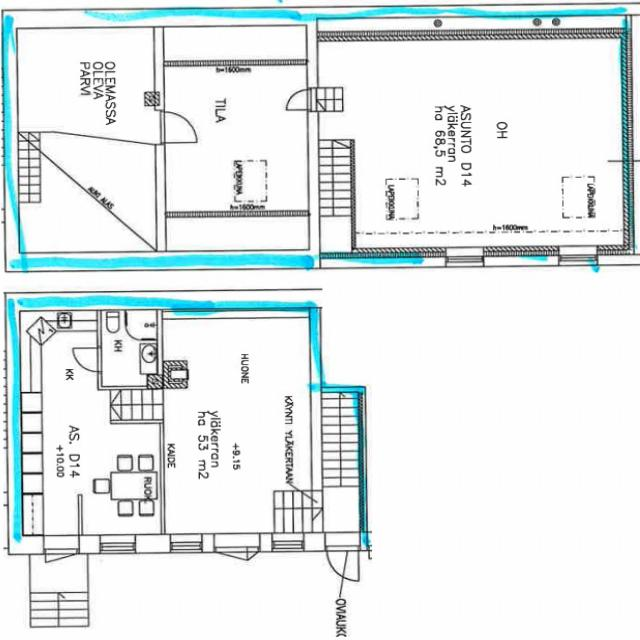door: (326, 535, 358, 584), (45, 535, 76, 583), (156, 112, 198, 143), (214, 534, 237, 576), (238, 534, 260, 576), (286, 89, 319, 110), (74, 349, 102, 371)
